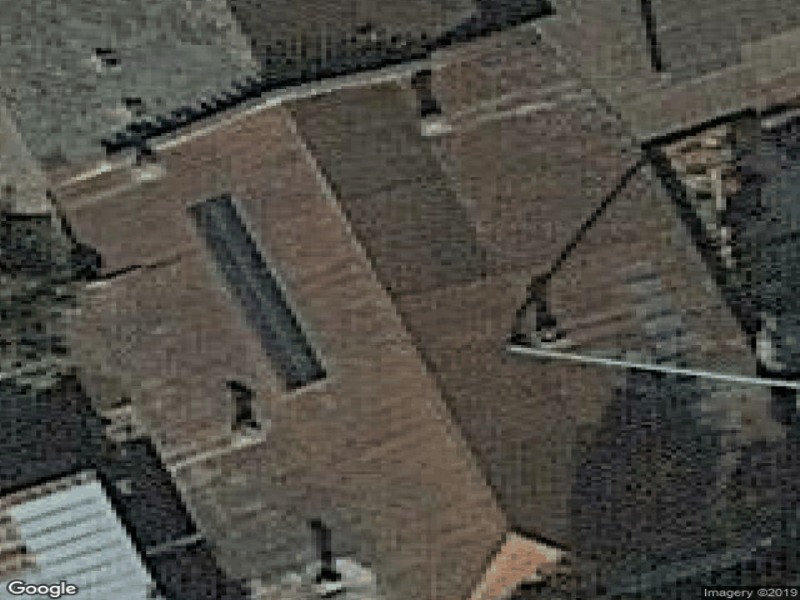pv: (188, 198, 337, 396)
